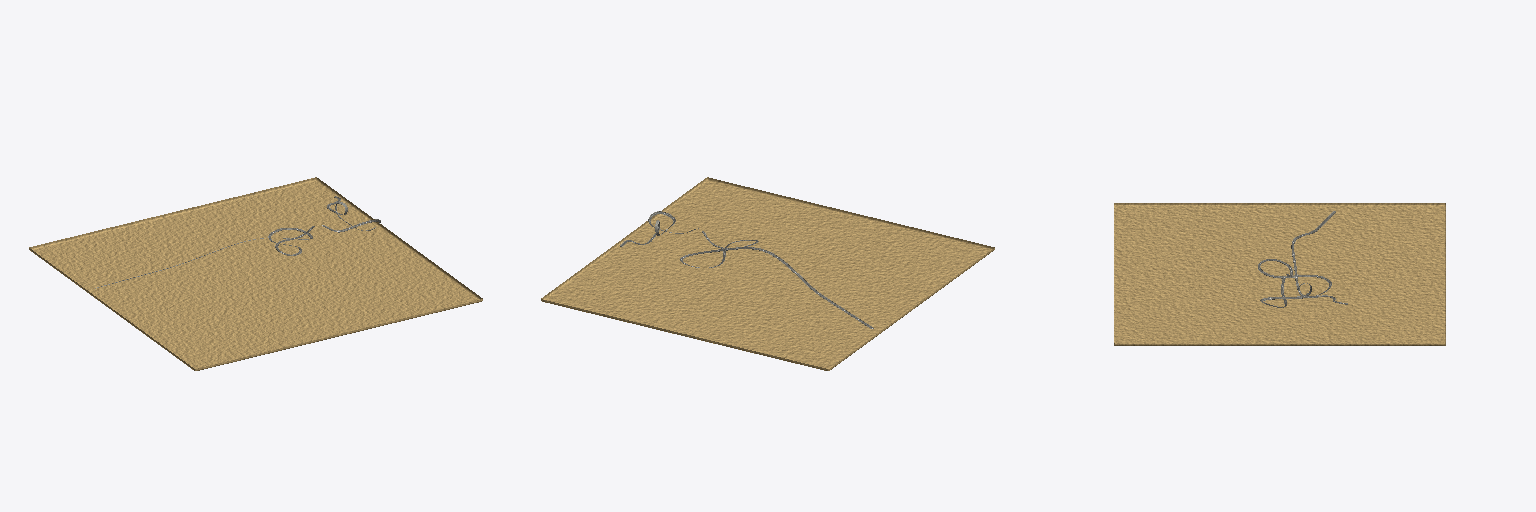
3 views of the same model, side by side, from view 1: azimuth 30°, elevation 25°; view 2: azimuth 150°, elevation 25°; view 3: azimuth 270°, elevation 25° (orthographic).
Visible parts, largest first — view 1: Cube.051_Cube.241_Cube.051_Cube.242; view 2: Cube.051_Cube.241_Cube.051_Cube.242; view 3: Cube.051_Cube.241_Cube.051_Cube.242.
Part boxes in pixels (x1,y1,x2,y2): Cube.051_Cube.241_Cube.051_Cube.242: (29, 177, 482, 370); Cube.051_Cube.241_Cube.051_Cube.242: (541, 177, 994, 370); Cube.051_Cube.241_Cube.051_Cube.242: (1114, 203, 1445, 345).
Bounding box in the file's own units: 43.58 × 6.03 × 43.58.
2 materials, 2 textured.